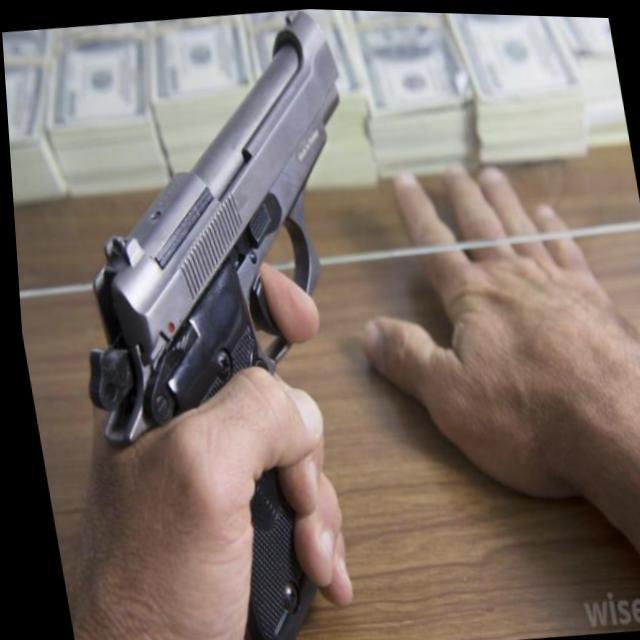weapon: (23, 1, 428, 640)
